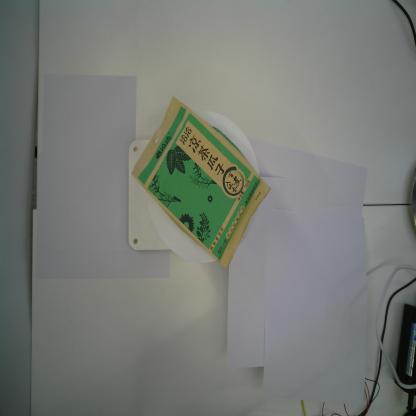Dried Food: (130, 94, 272, 270)
